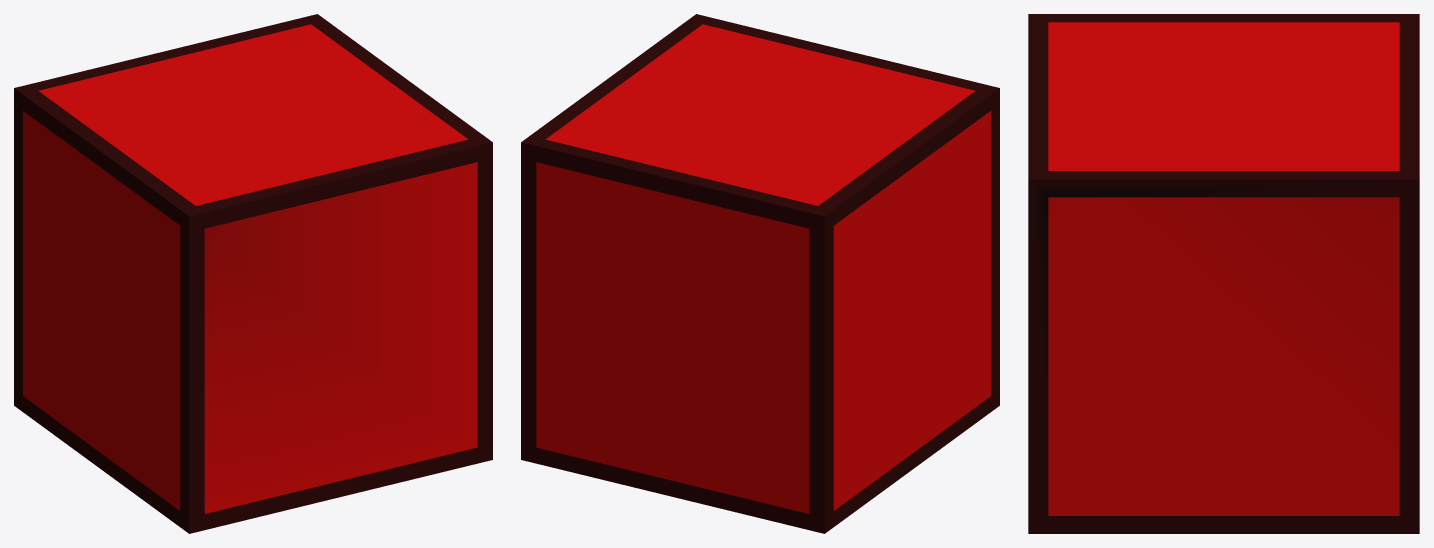
File: tile_RED_light.glb
3 renders of one model, left to right at view 1: azimuth 30°, elevation 25°; view 2: azimuth 150°, elevation 25°; view 3: azimuth 270°, elevation 25°, orthographic. The views are drawn at different scales.
Visible parts, largest first — view 1: Col; view 2: Col; view 3: Col.
Part boxes in pixels (x1,y1,x2,y2): Col: (14,14,492,533); Col: (521,14,999,533); Col: (1028,14,1419,533).
Bounding box in the file's own units: 2 × 2 × 2.
